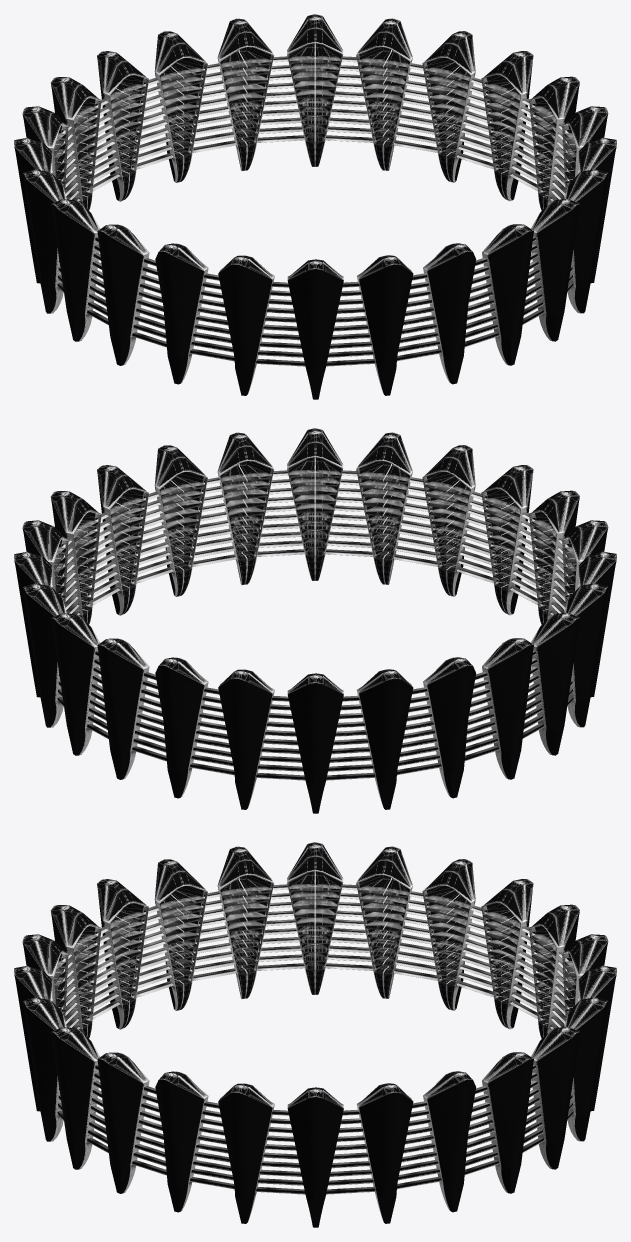
Rendered from m_arena_main.fbx.
The picture shows the model from 3 angles, top to bottom: view 1: azimuth 30°, elevation 25°; view 2: azimuth 150°, elevation 25°; view 3: azimuth 270°, elevation 25°; orthographic projection.
Parts seen in each view (by area): view 1: polySurface189; view 2: polySurface189; view 3: polySurface189.
Part boxes in pixels (left/top/right/bottom): polySurface189: left=14, top=14, right=616, bottom=399; polySurface189: left=14, top=428, right=616, bottom=813; polySurface189: left=14, top=842, right=616, bottom=1227.
Size of the model in its own units: 179 by 46.58 by 179.
Materials: 1 (1 with a texture image).
